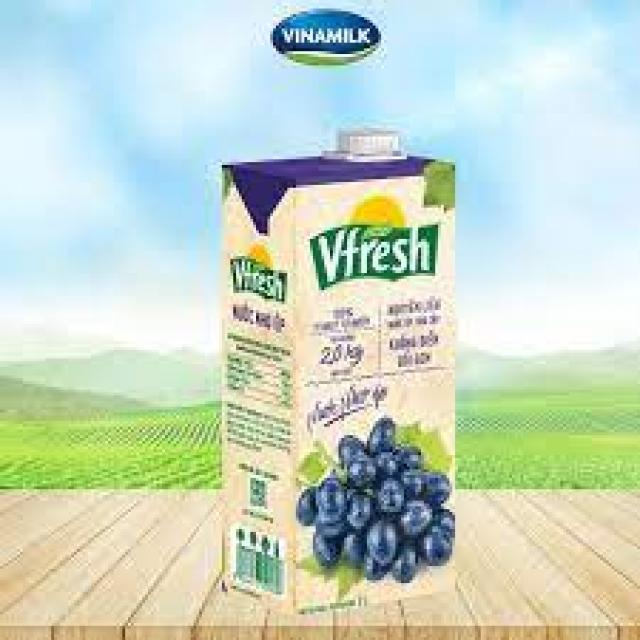non_white_jug: (218, 120, 470, 620)
